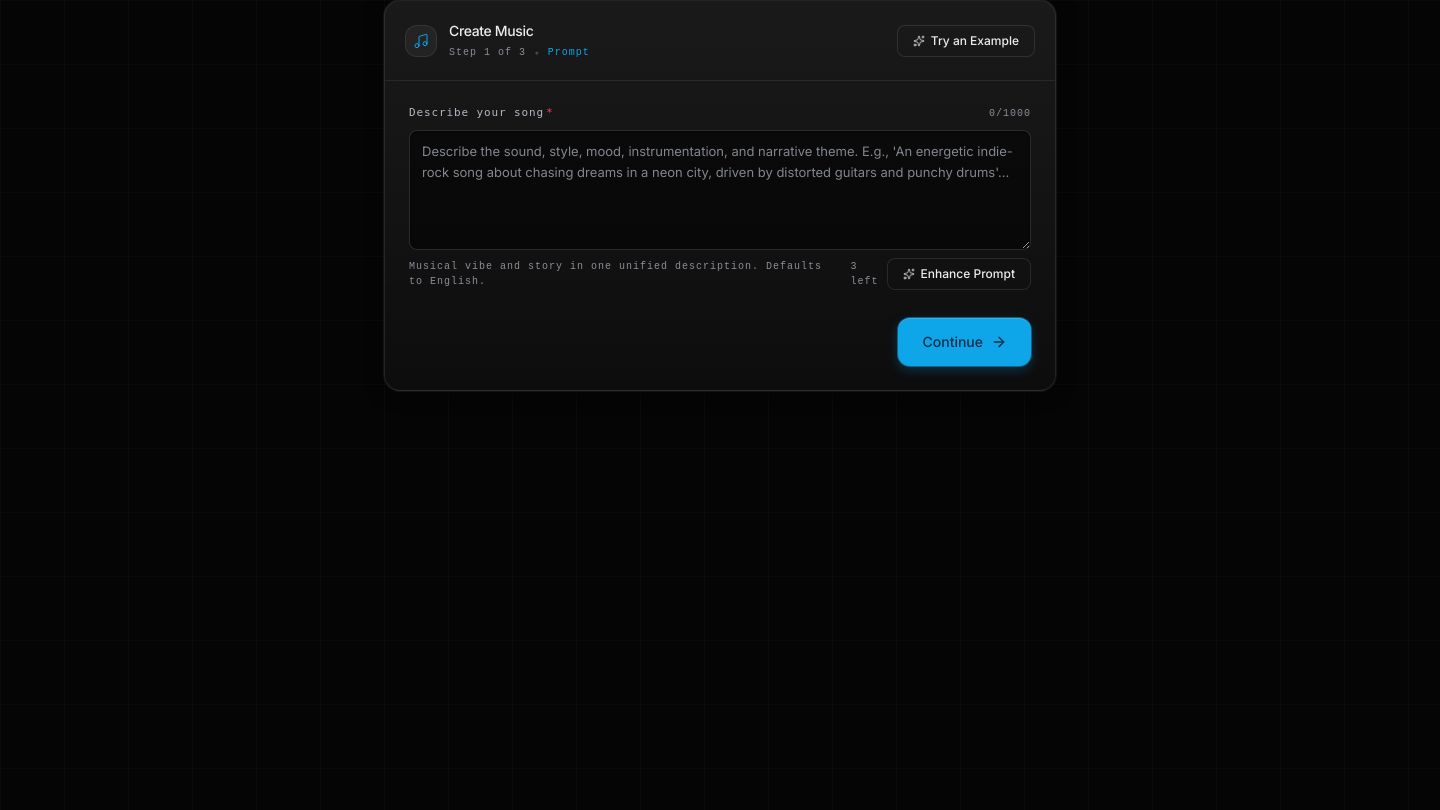
Test: MusicGeneratorWizard - Prompt Enhancement (#84) › Enhance Prompt replaces the prompt text in place and shows the attempts left
This screenshot has width=1440, height=810.
Step 1. Replace the text in the text box named "prompt" with "Make a pop punk song about being a dad" → [720, 190], box [409, 130, 1031, 250]
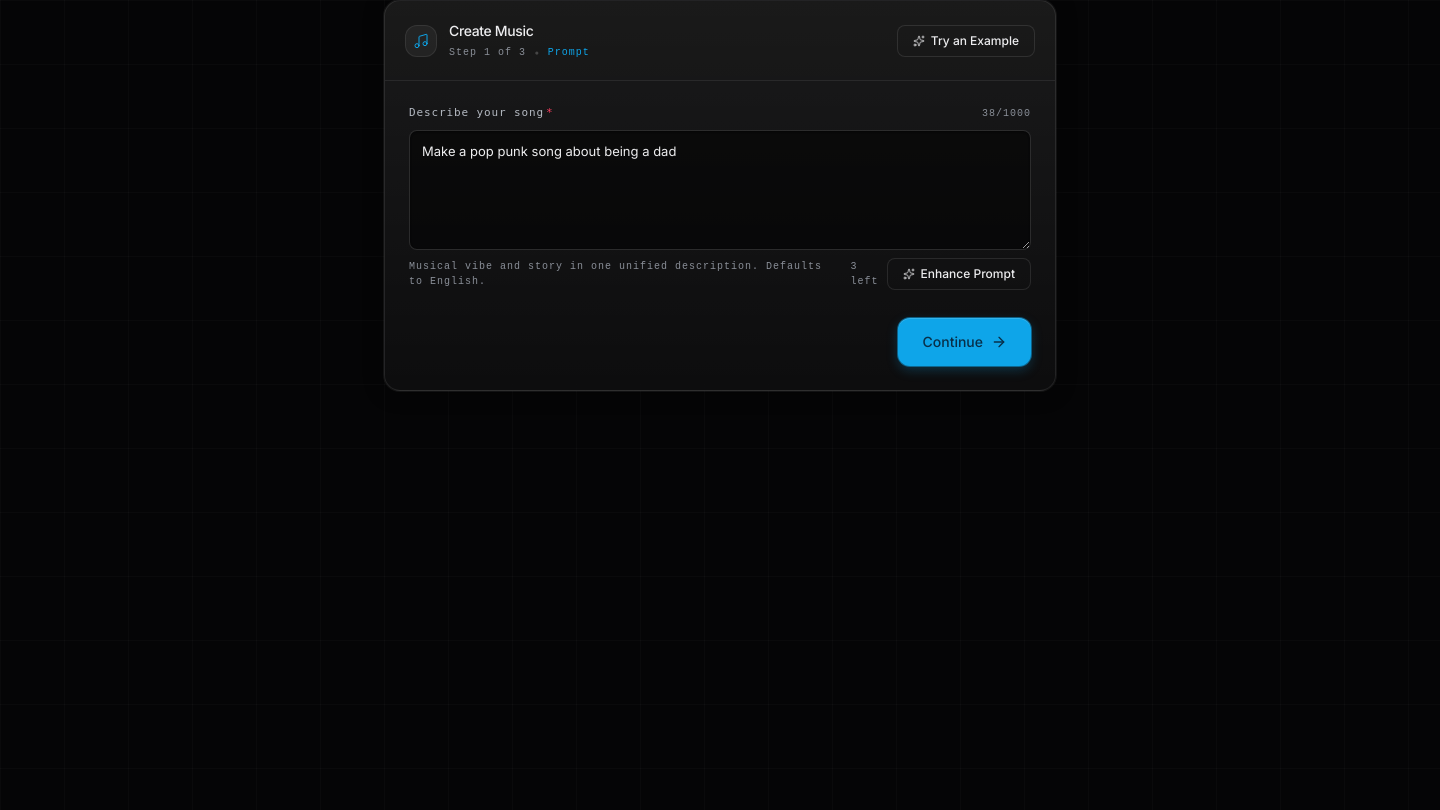
Step 2. Click the button "Enhance Prompt" → [959, 274], box [887, 258, 1031, 290]
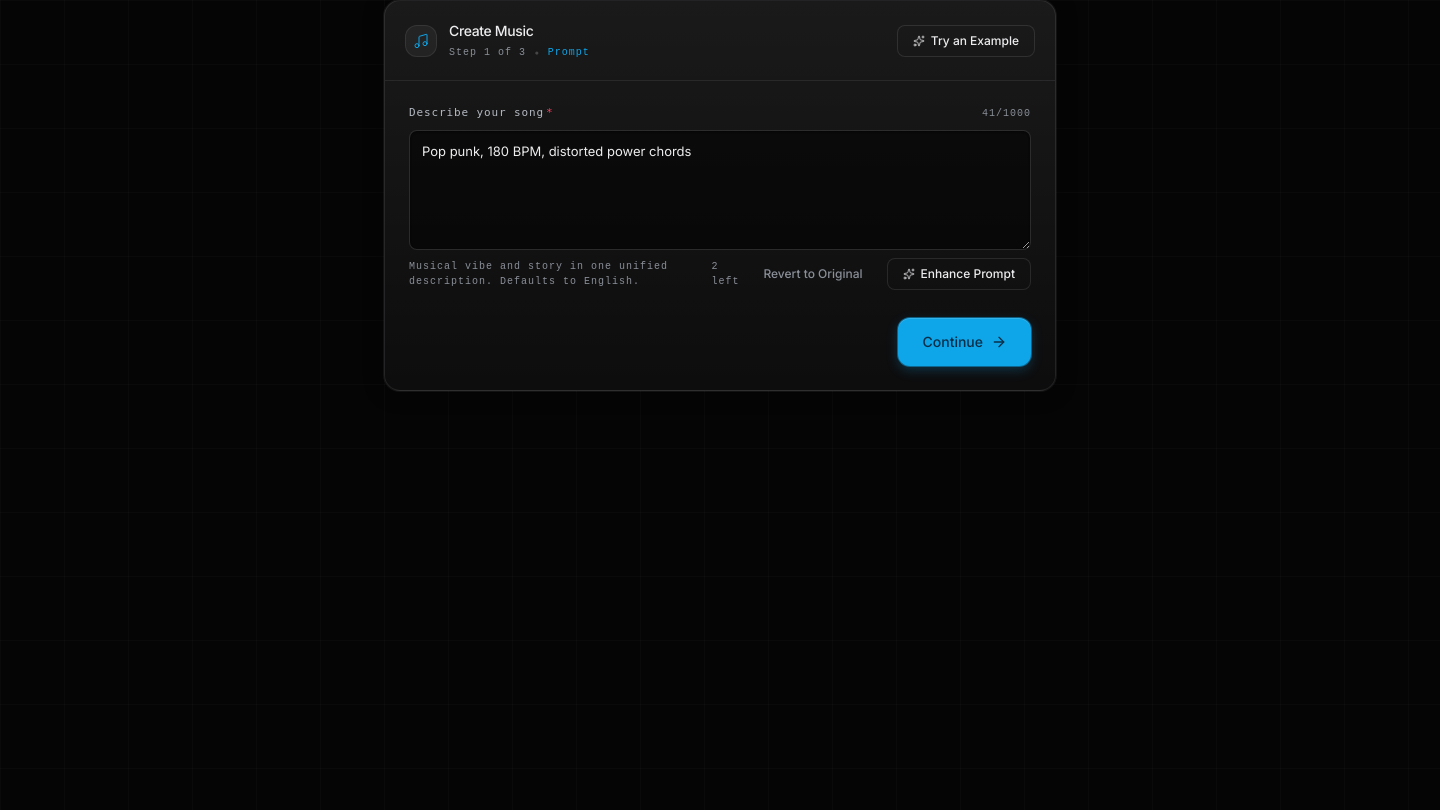
Expected: the text "Step 1 of 3" is shown, [449, 45, 526, 60]
Now the text box named "prompt" holds "Pop punk, 180 BPM, distorted power chords", box [409, 130, 1031, 250]
Now the text "2 left" is shown, box [711, 258, 739, 288]
